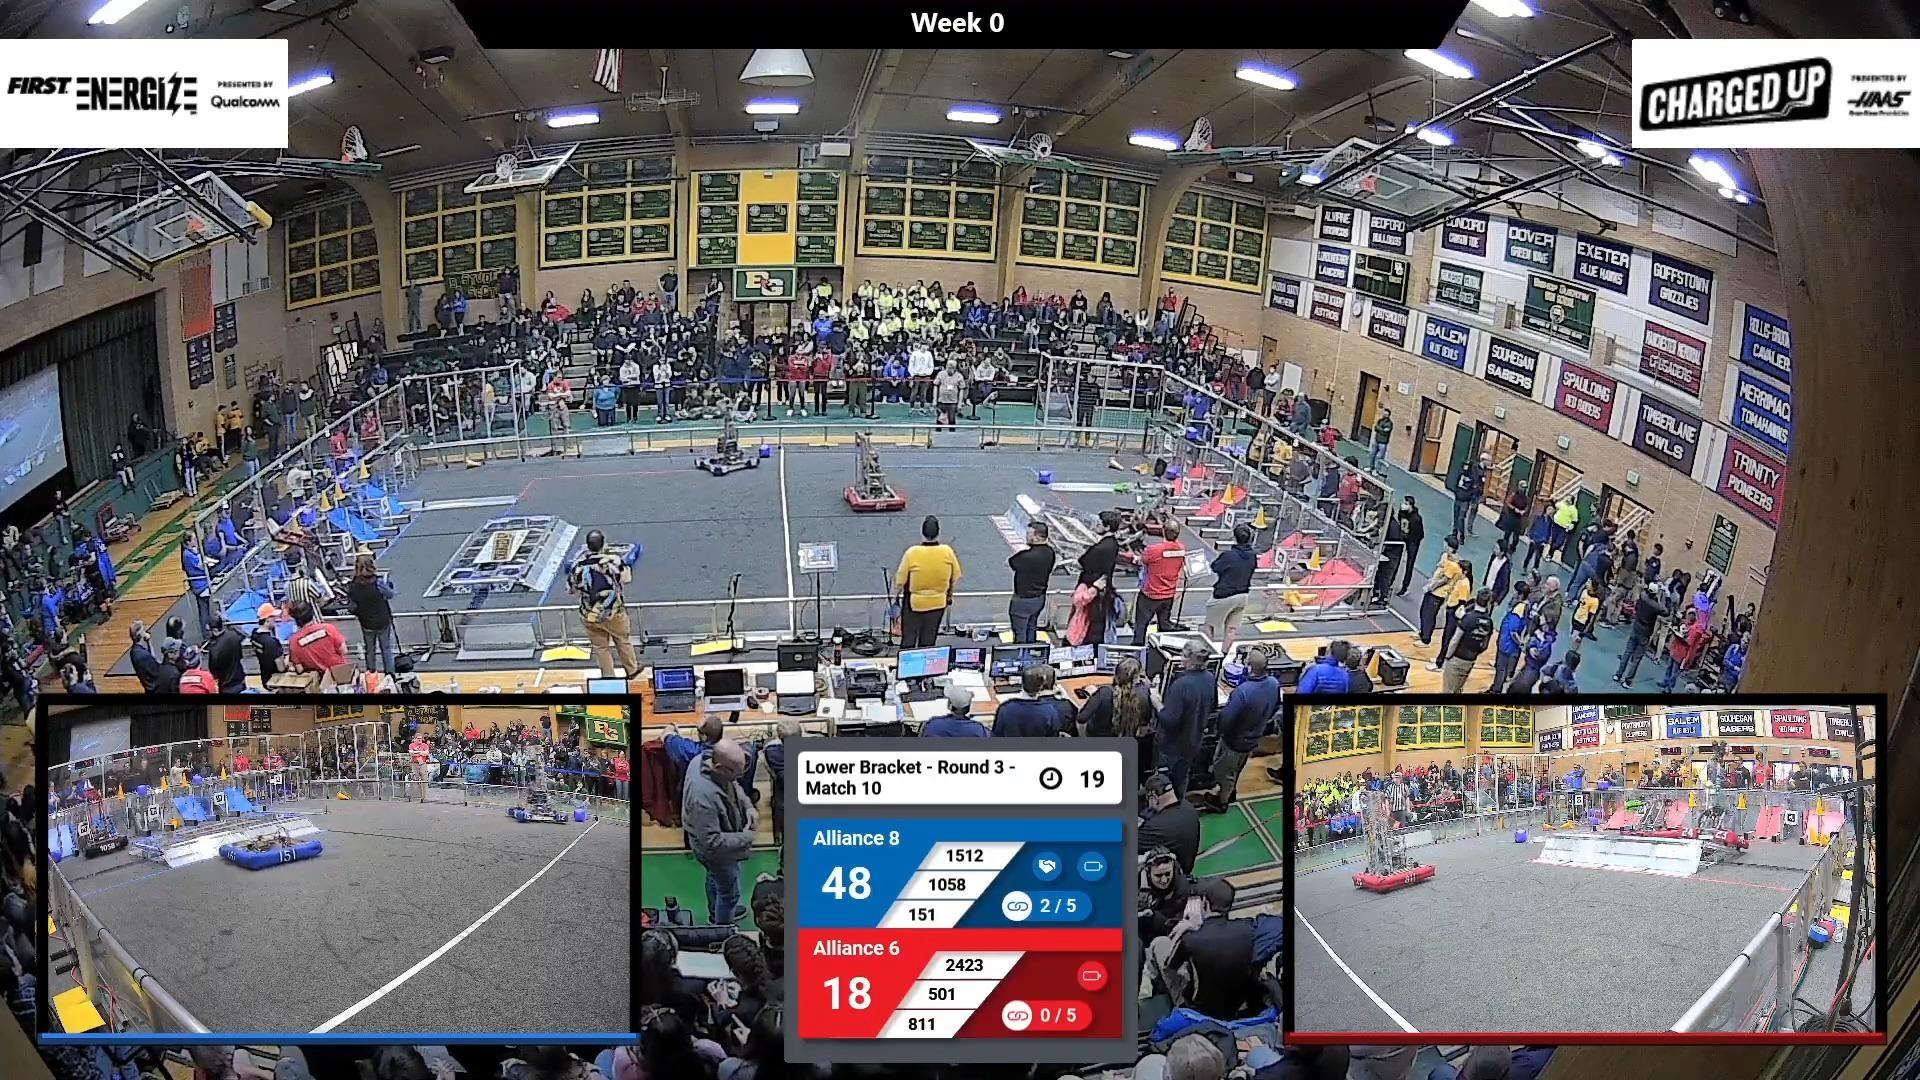robot: (295, 533, 397, 622), (833, 435, 913, 524), (566, 516, 641, 591), (700, 411, 769, 491), (1110, 464, 1180, 537), (1097, 522, 1164, 580)
